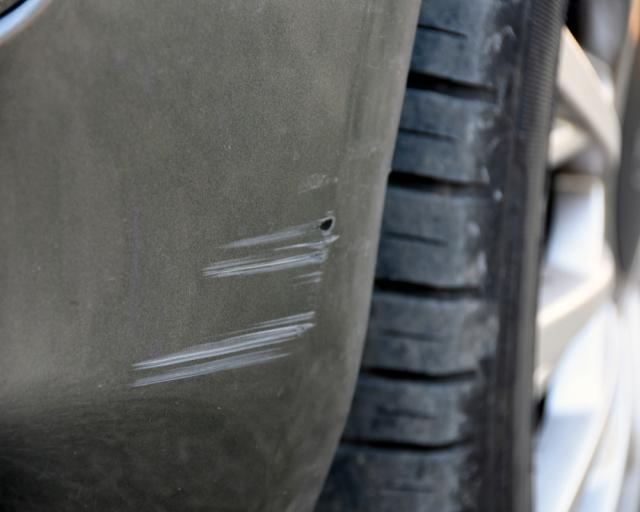scratch: (124, 157, 352, 389)
